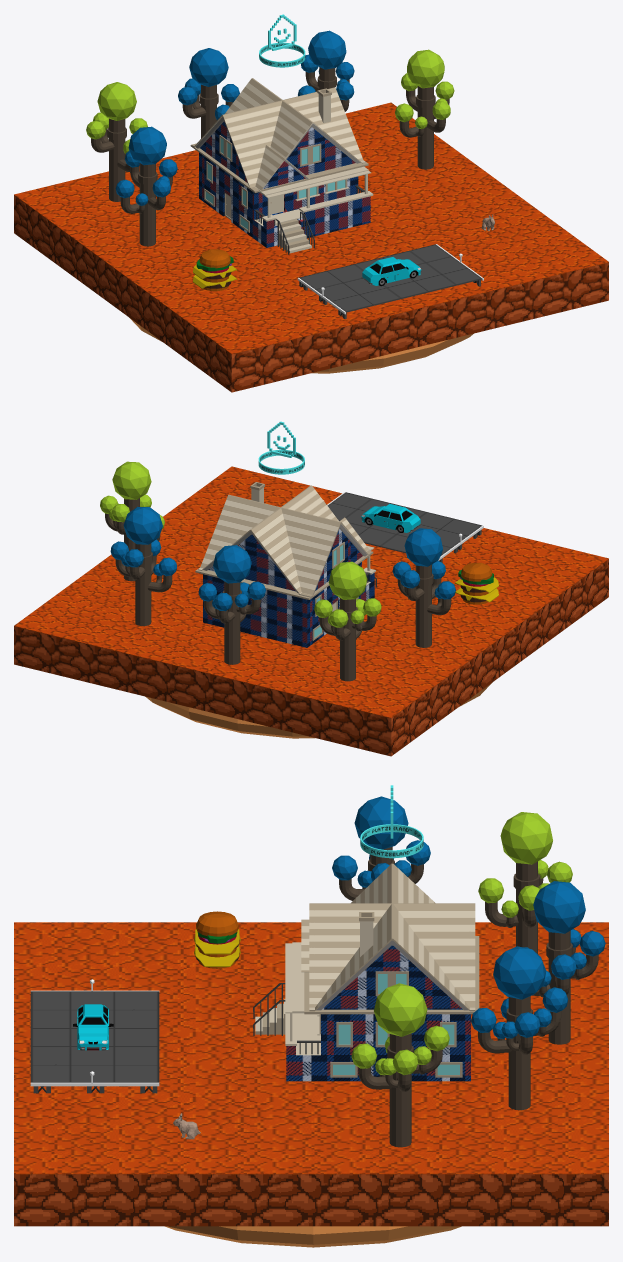
3 views of the same model, one above another, from view 1: azimuth 30°, elevation 25°; view 2: azimuth 150°, elevation 25°; view 3: azimuth 270°, elevation 25° (orthographic). The views are drawn at different scales.
Parts seen in each view (by area): view 1: Cube.001, Cube.171, UNDERGROUND_PIZZA, OBJRANDOM_HAMBURGER, VEHICLES_CAR, TYPE_PREMIUM; view 2: Cube.001, Cube.171, UNDERGROUND_PIZZA, OBJRANDOM_HAMBURGER, VEHICLES_CAR, TYPE_PREMIUM; view 3: Cube.001, Cube.171, UNDERGROUND_PIZZA, OBJRANDOM_HAMBURGER, VEHICLES_CAR, TYPE_PREMIUM.
Boxes of the visible parts, x1,y1,x2,y2 form: Cube.001: (14, 30, 608, 392); Cube.171: (190, 78, 373, 254); UNDERGROUND_PIZZA: (130, 318, 473, 373); OBJRANDOM_HAMBURGER: (193, 249, 237, 291); VEHICLES_CAR: (361, 257, 421, 286); TYPE_PREMIUM: (259, 14, 305, 67); Cube.001: (14, 461, 608, 756); Cube.171: (195, 482, 376, 647); UNDERGROUND_PIZZA: (145, 682, 492, 738); OBJRANDOM_HAMBURGER: (454, 562, 498, 604); VEHICLES_CAR: (361, 503, 421, 532); TYPE_PREMIUM: (258, 421, 304, 474); Cube.001: (14, 796, 608, 1226); Cube.171: (253, 863, 479, 1081); UNDERGROUND_PIZZA: (165, 1226, 461, 1247); OBJRANDOM_HAMBURGER: (194, 911, 240, 968); VEHICLES_CAR: (73, 1004, 113, 1050); TYPE_PREMIUM: (360, 785, 423, 858).
Bounding box in the file's own units: 4000 × 2622 × 4000.
44 materials, 6 textured.
